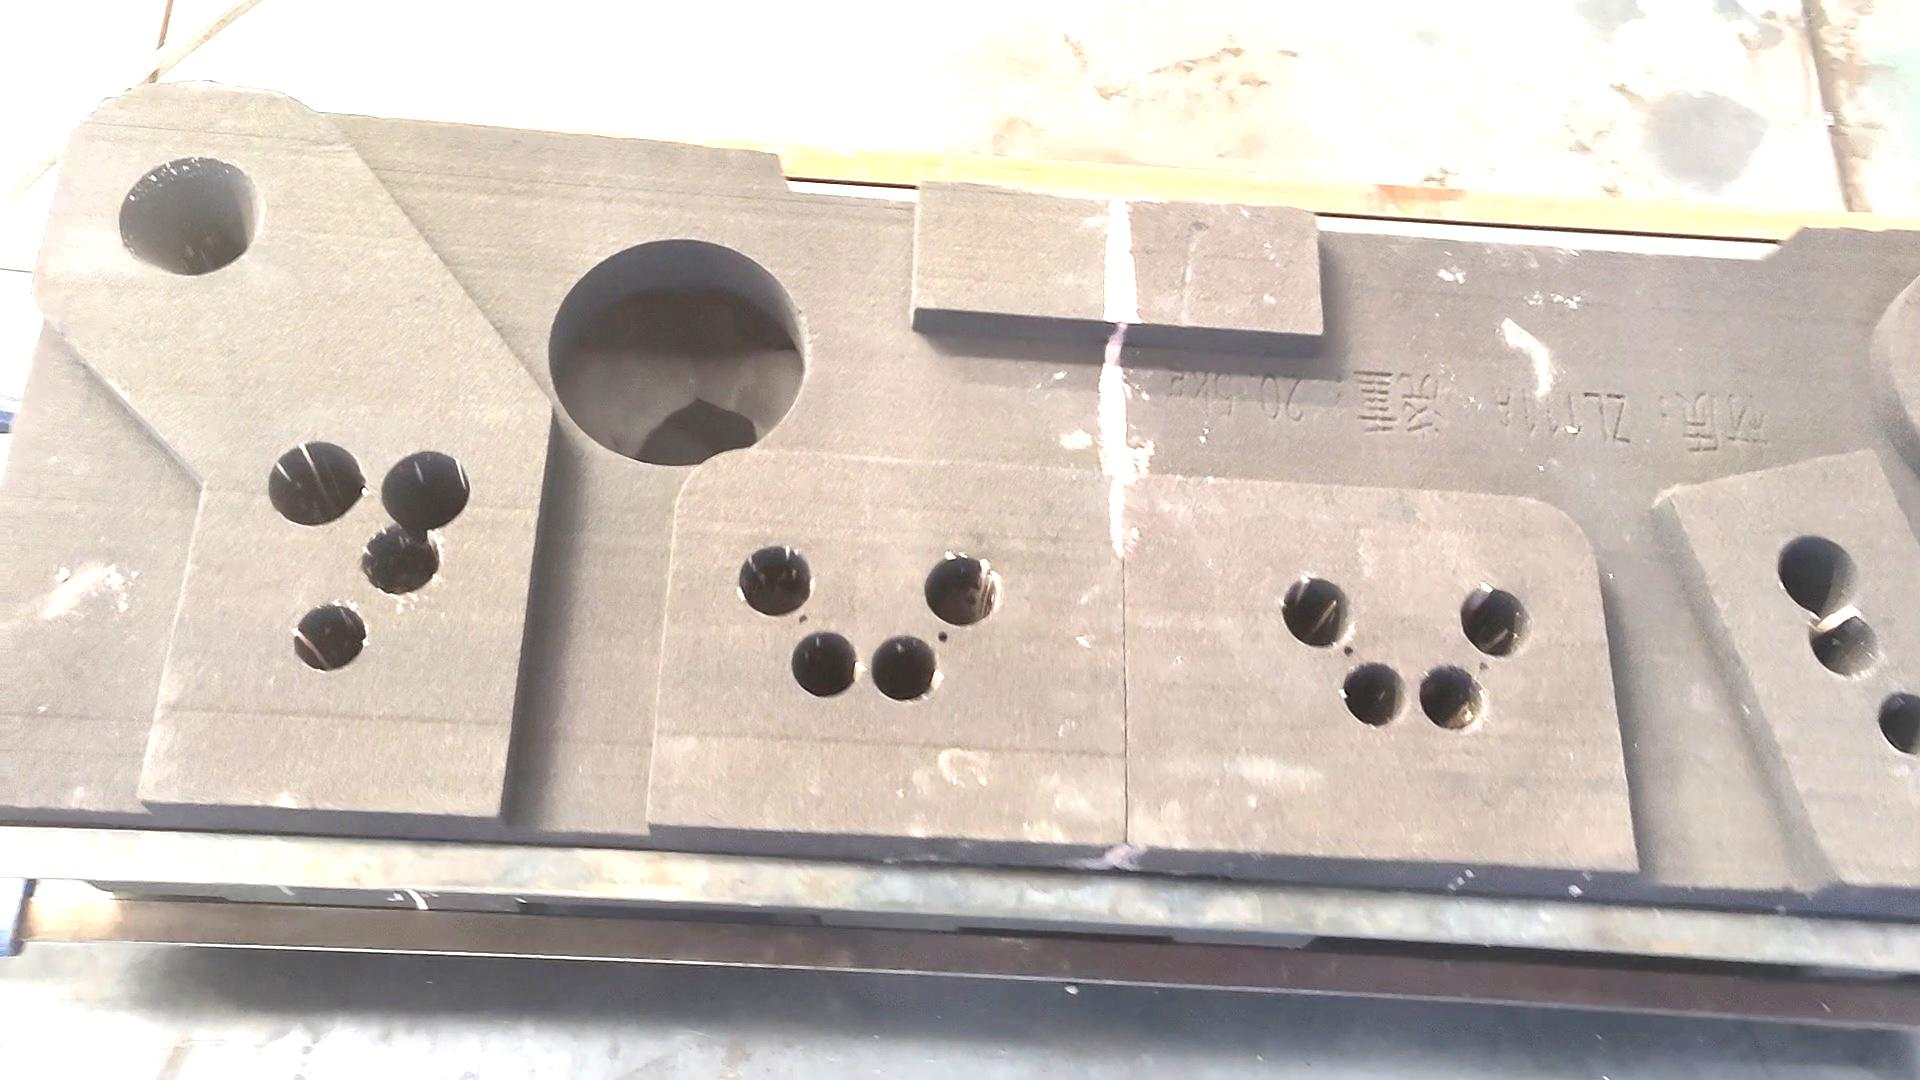pouring hole: (117, 156, 264, 276)
